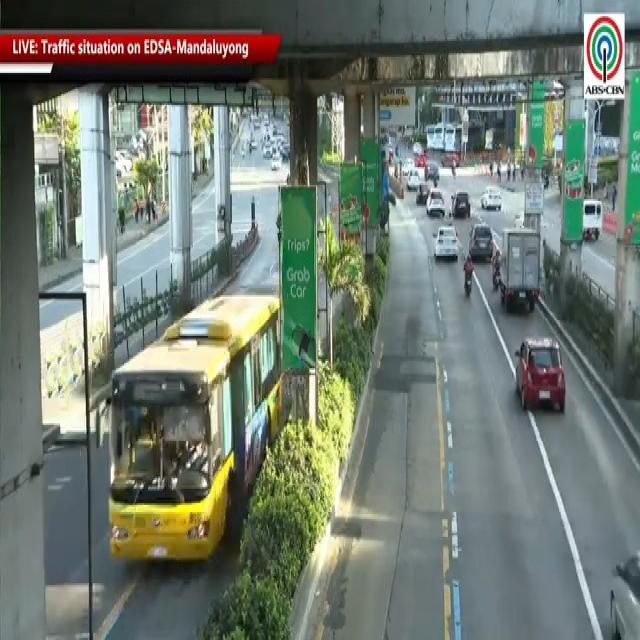car: (516, 329, 570, 421), (470, 217, 499, 270), (434, 222, 462, 265)
motorbike: (463, 254, 475, 300), (493, 245, 502, 294)
truck: (500, 222, 539, 313)
